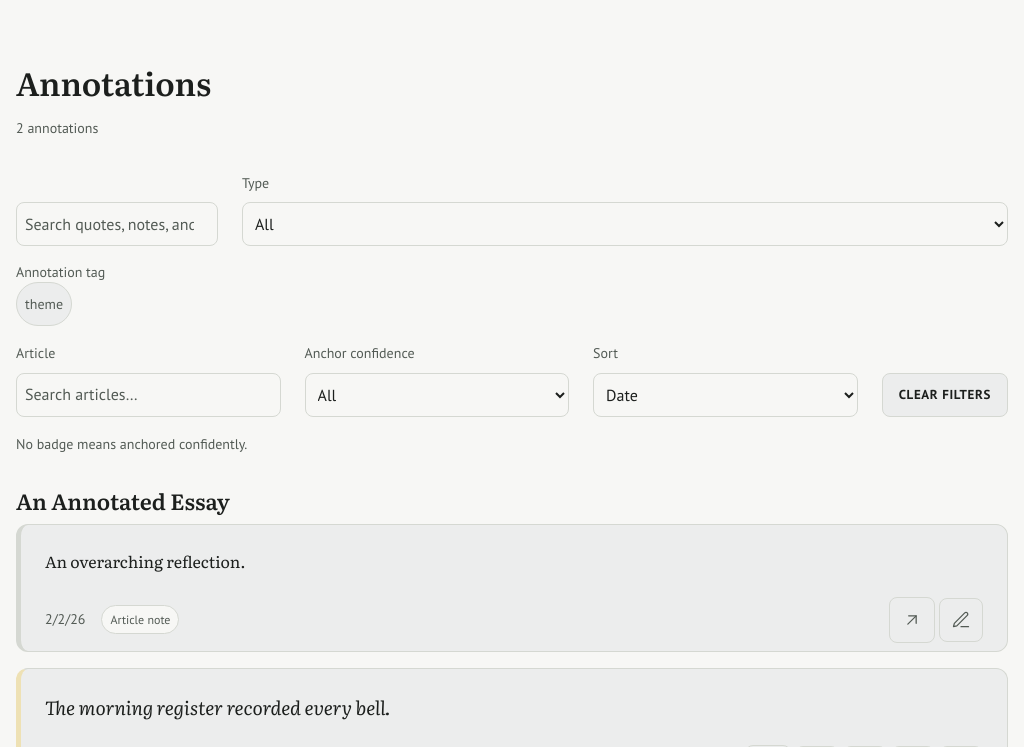
it: ReviewView article-note rows (issue #210) › a safe close returns focus to the opening Edit control
Later steps or results of the test are not shown.
Click the button named "Edit article note: An overarching reflection." at {"x": 961, "y": 620}, box [939,598,983,642]
(page scrolled)
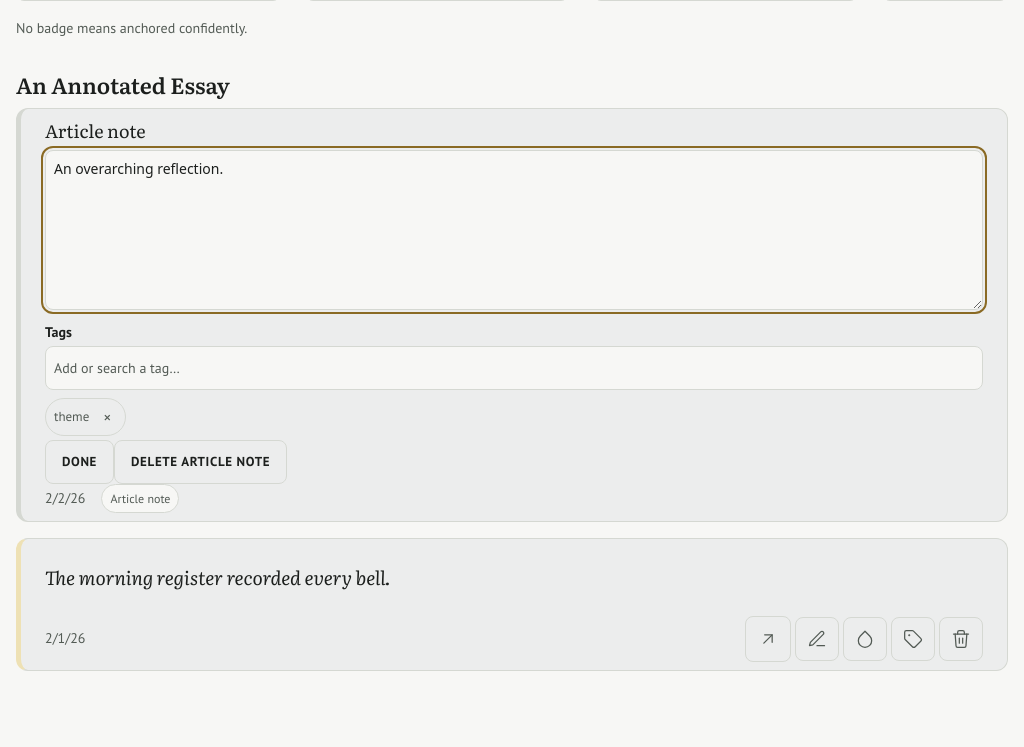
Check: the text box labelled "Article note" is shown, box [45,150,983,310]
